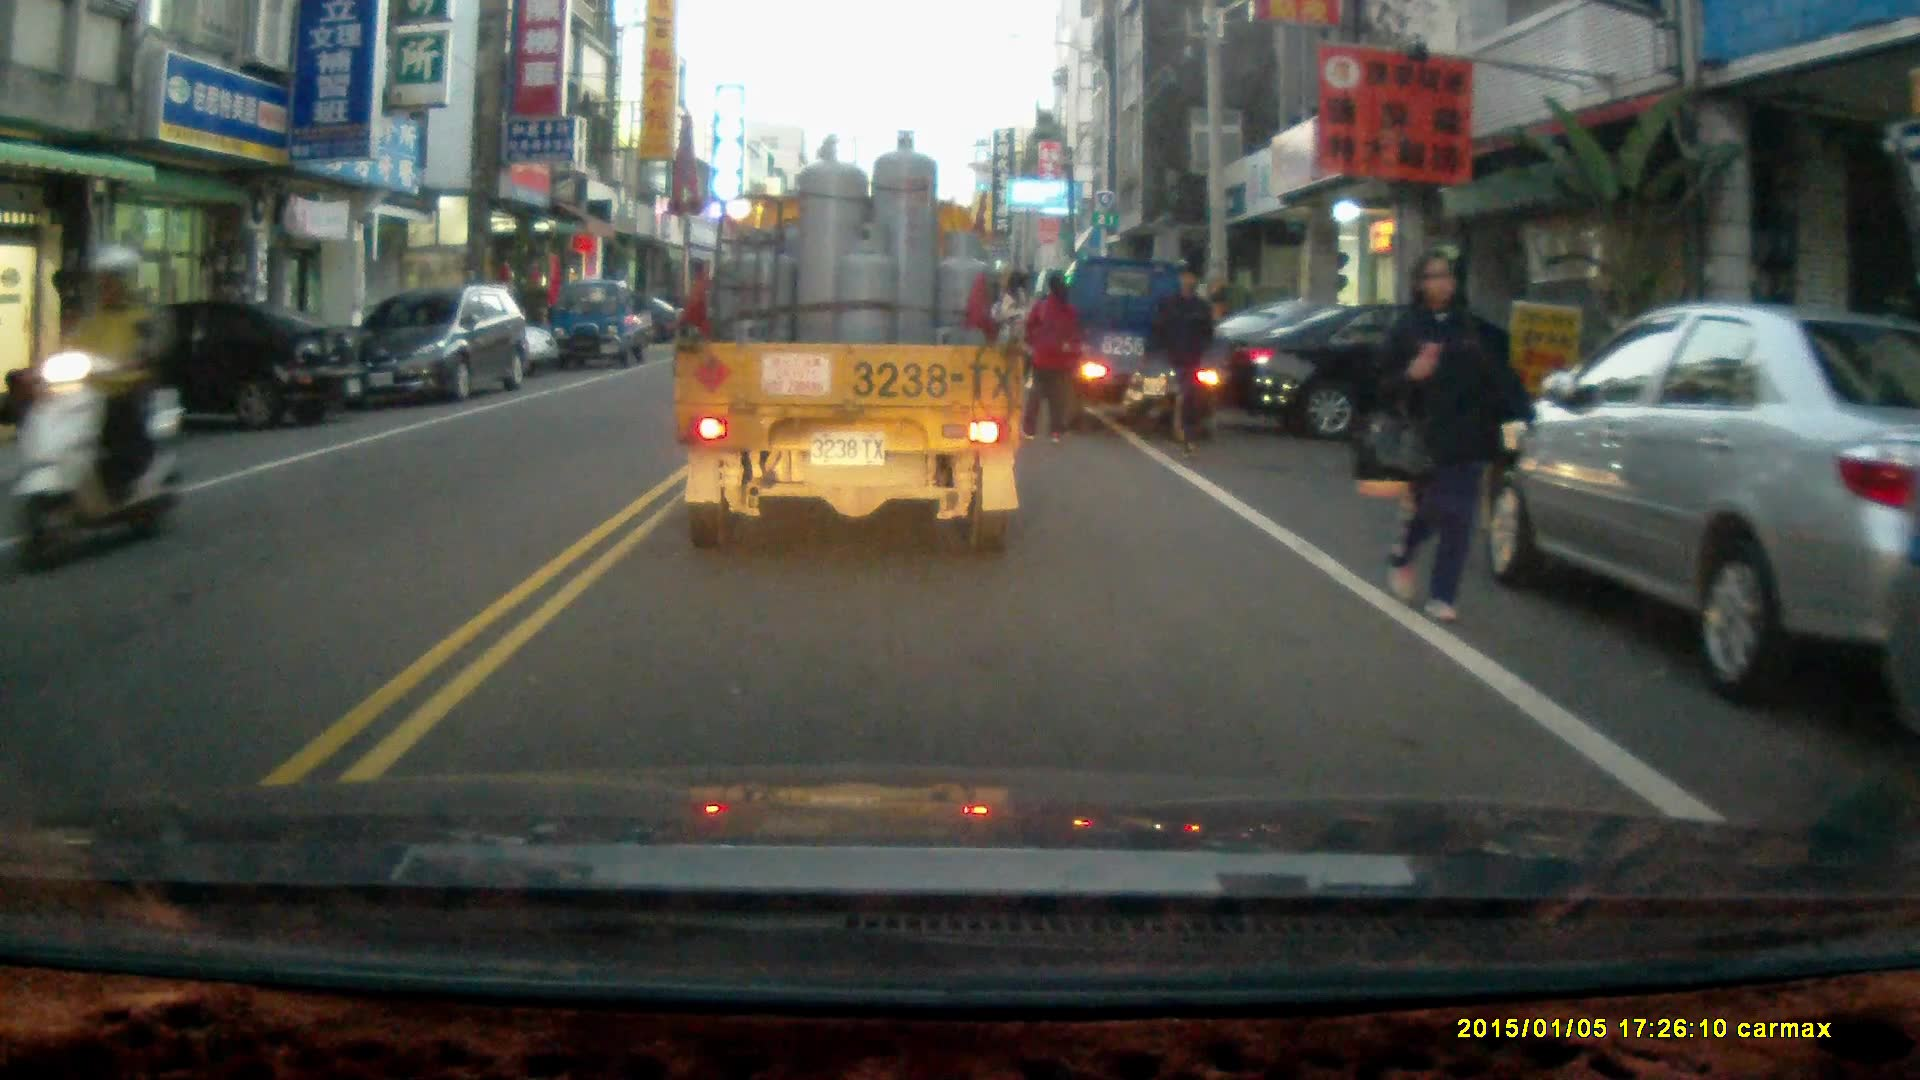pedestrian: (1373, 242, 1513, 628), (1144, 267, 1208, 462), (1019, 272, 1078, 445)
rider: (7, 243, 182, 568)
vehicle: (1467, 305, 1920, 710), (674, 129, 1033, 560), (1210, 298, 1546, 464), (13, 300, 366, 437), (1049, 260, 1244, 444), (346, 288, 536, 411), (550, 279, 656, 373)
